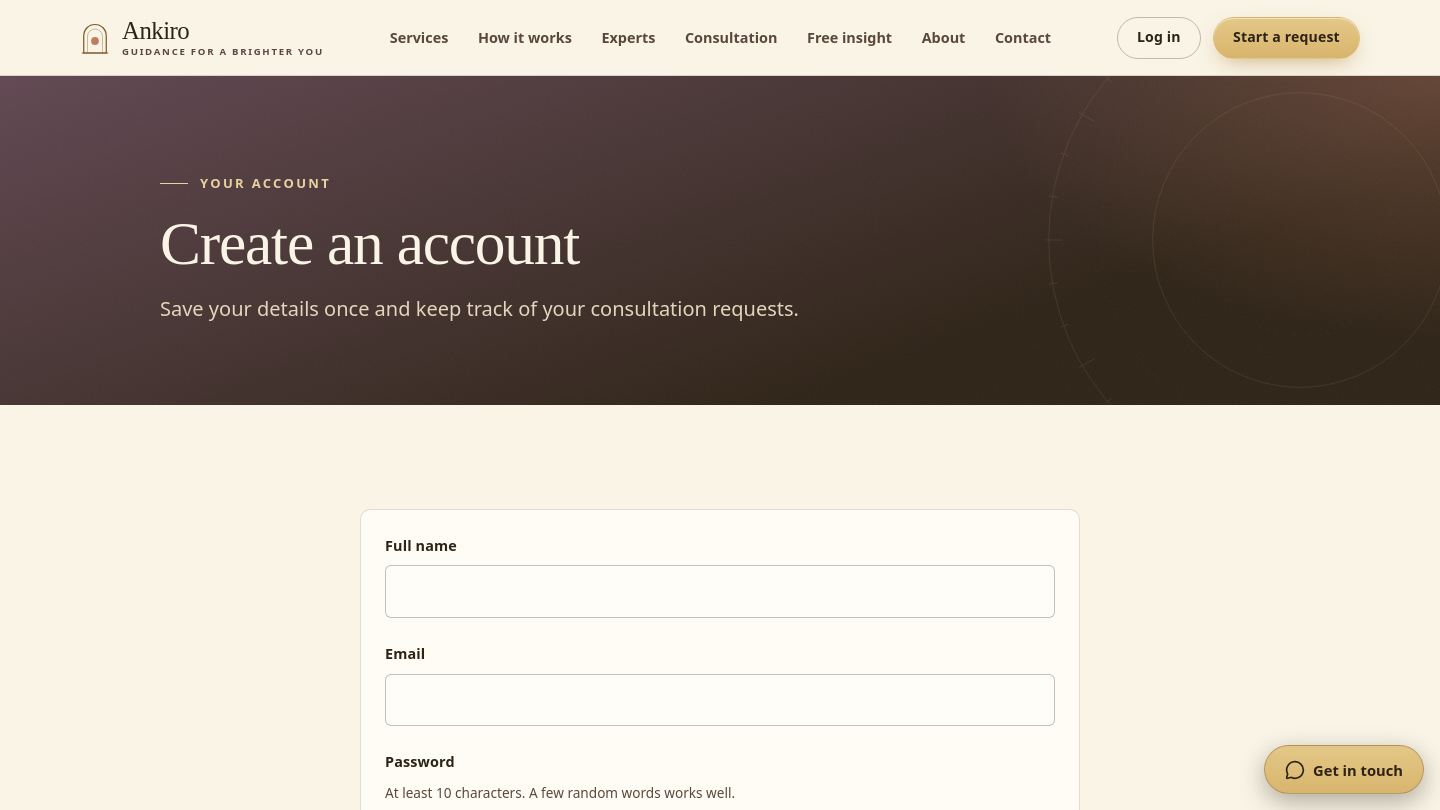
sign-up › goes straight to the dashboard if no confirmation is needed
The width and height of the screenshot is (1440, 810).
Type "  Asha Rao " into the field labelled "Full name" at (720, 592), box [385,565,1055,618]
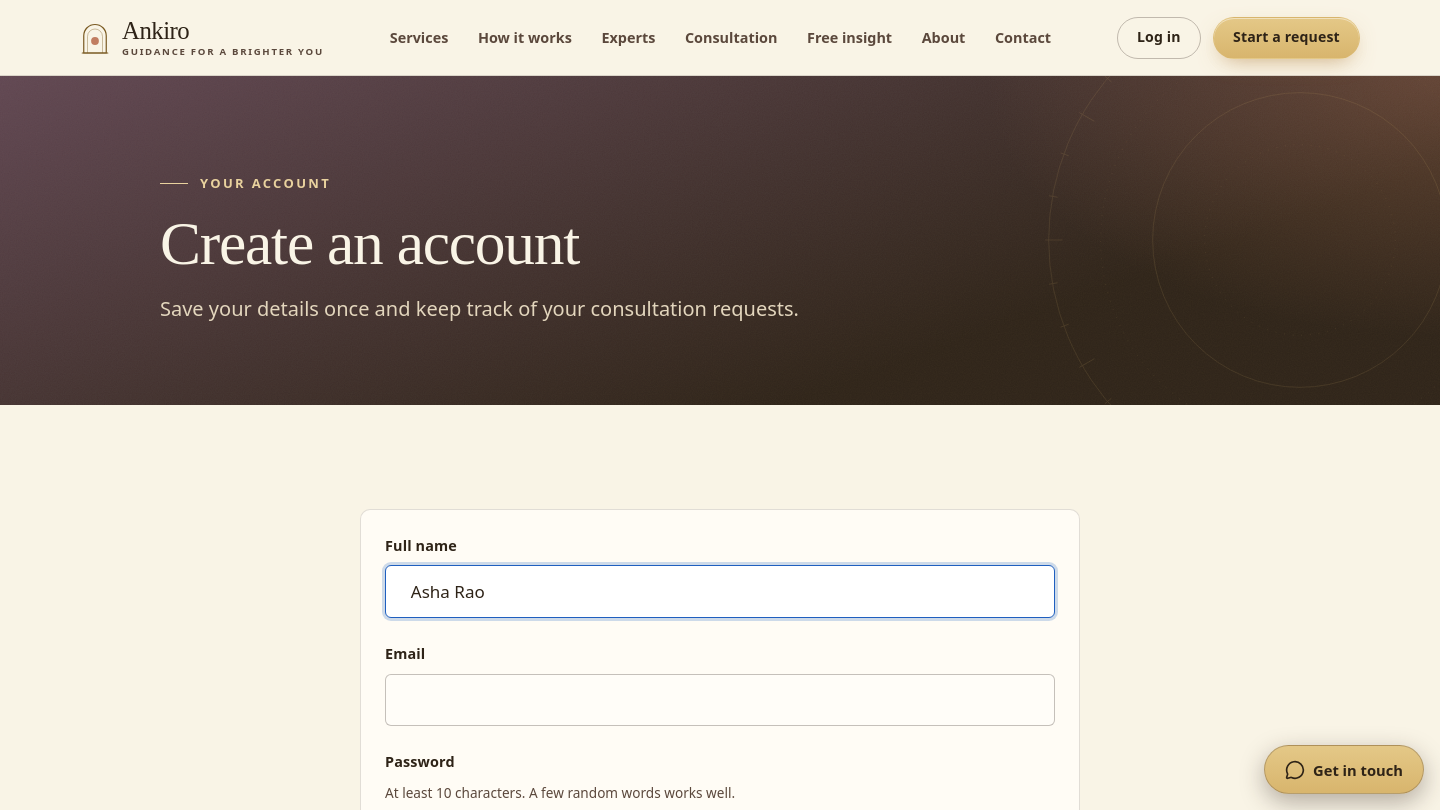
Type "Asha@Example.com " into the field labelled "Email" at (720, 700), box [385,674,1055,726]
(page scrolled)
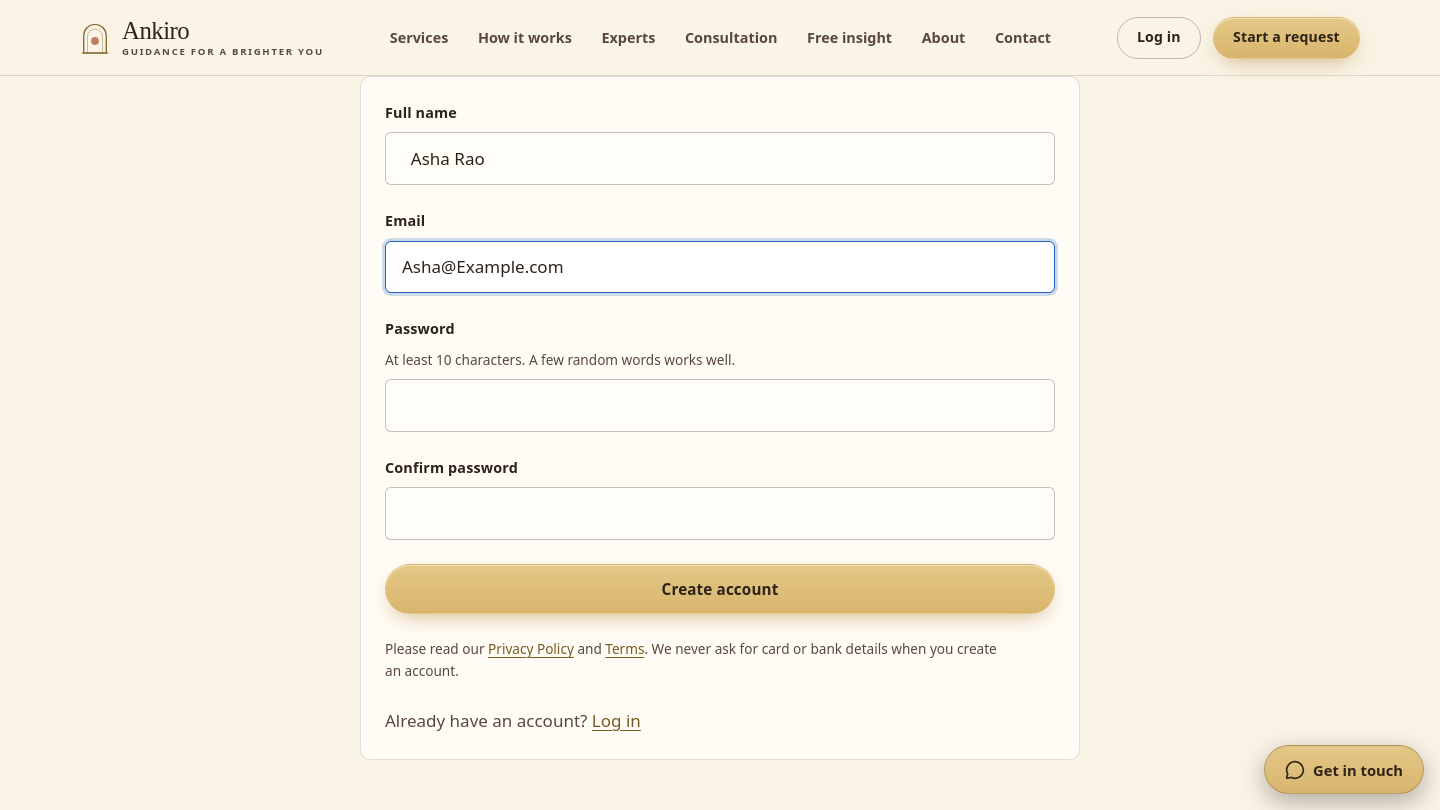
Type "blue-river-lantern" into the password field labelled "Password" at (720, 405), box [385,379,1055,432]
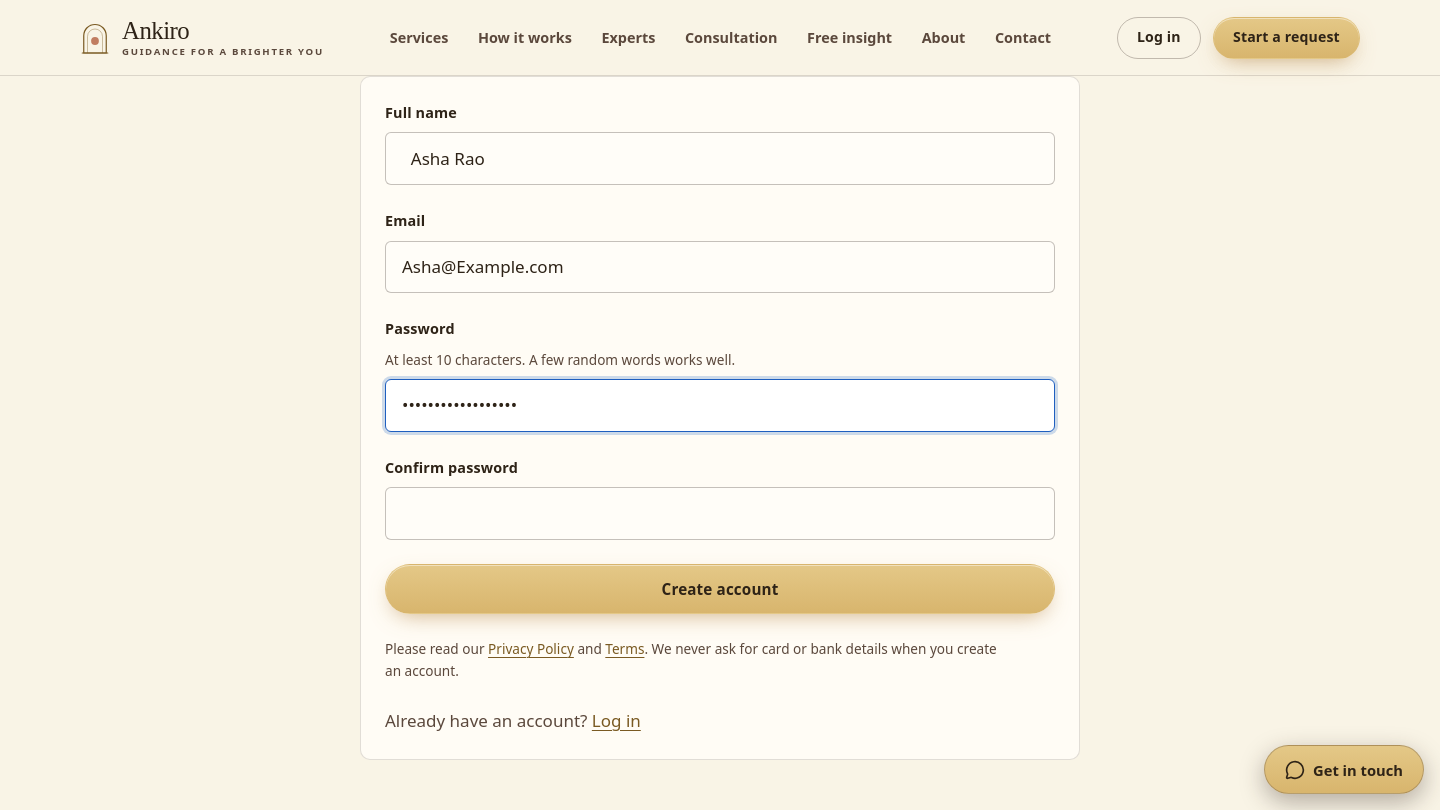
Type "blue-river-lantern" into the password field labelled "Confirm password" at (720, 514), box [385,487,1055,540]
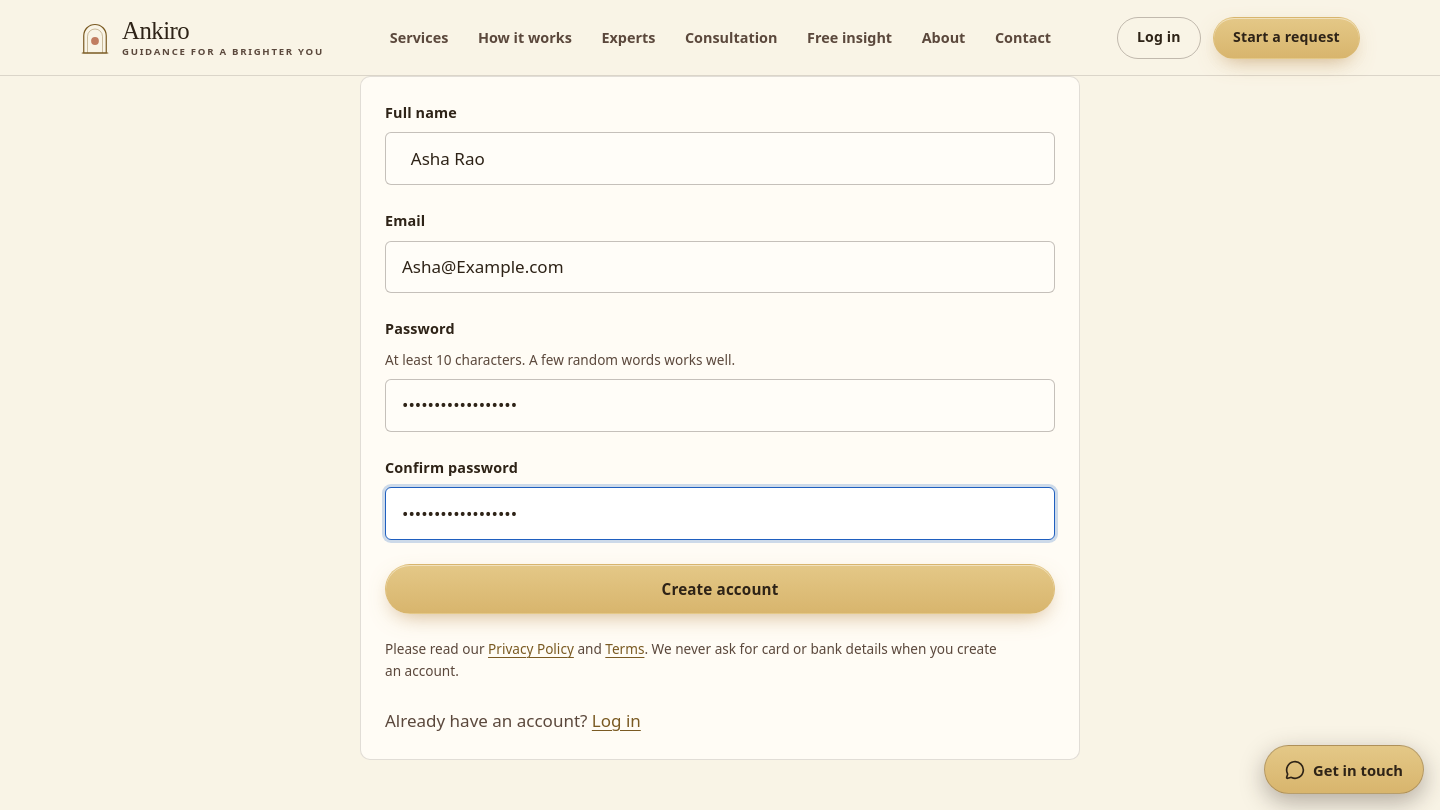
Click the button "Create account" at (720, 589), box [385,564,1055,614]
(page scrolled)
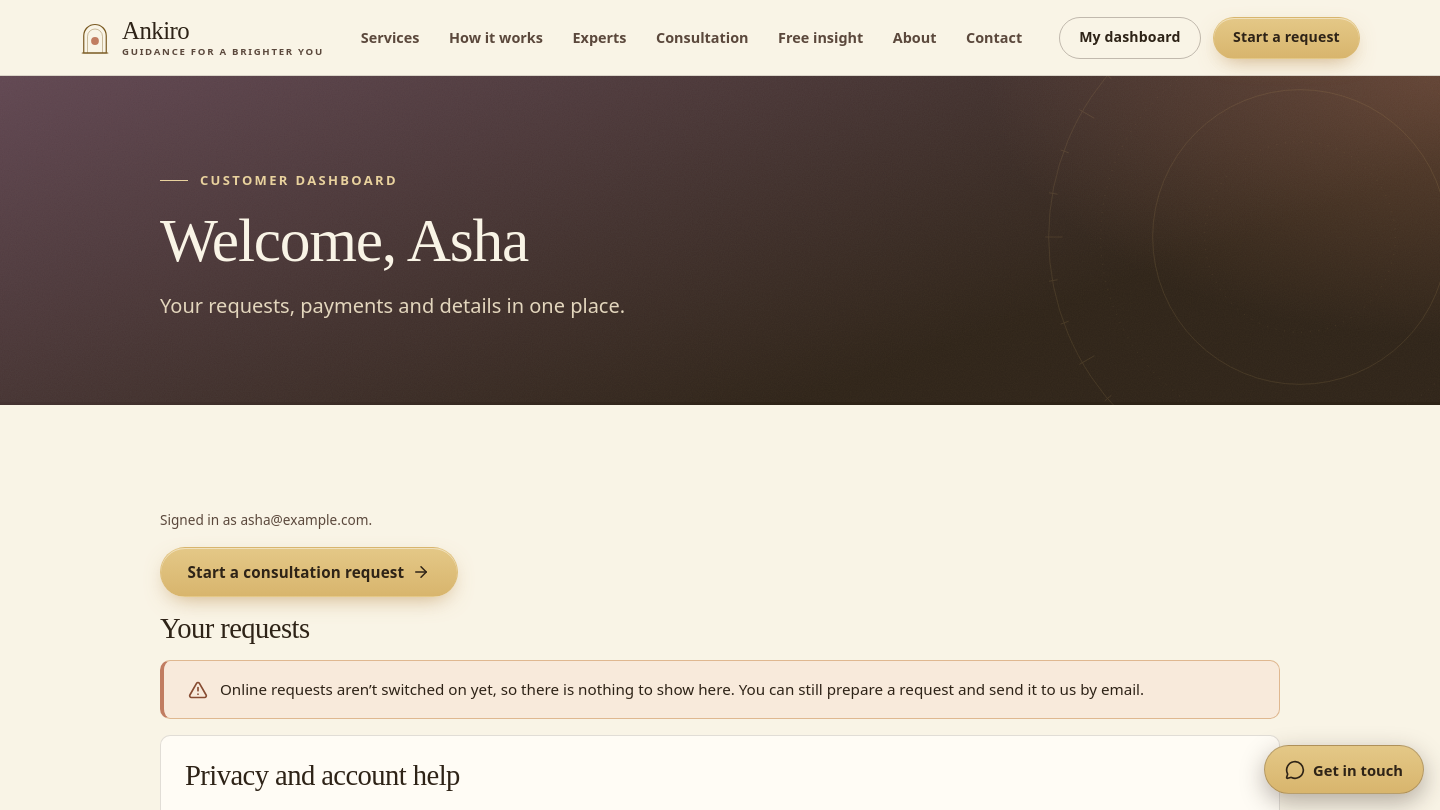
Check: the heading "Welcome, Asha" is shown, box [160,206,528,274]
